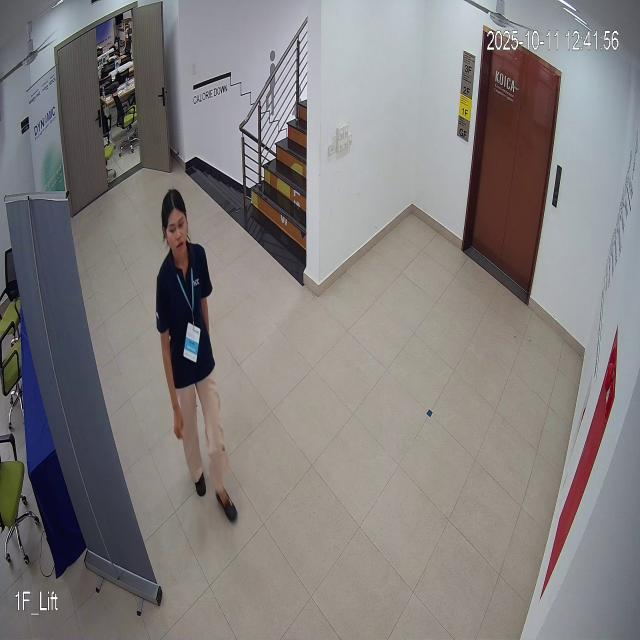face: (158, 181, 195, 266)
